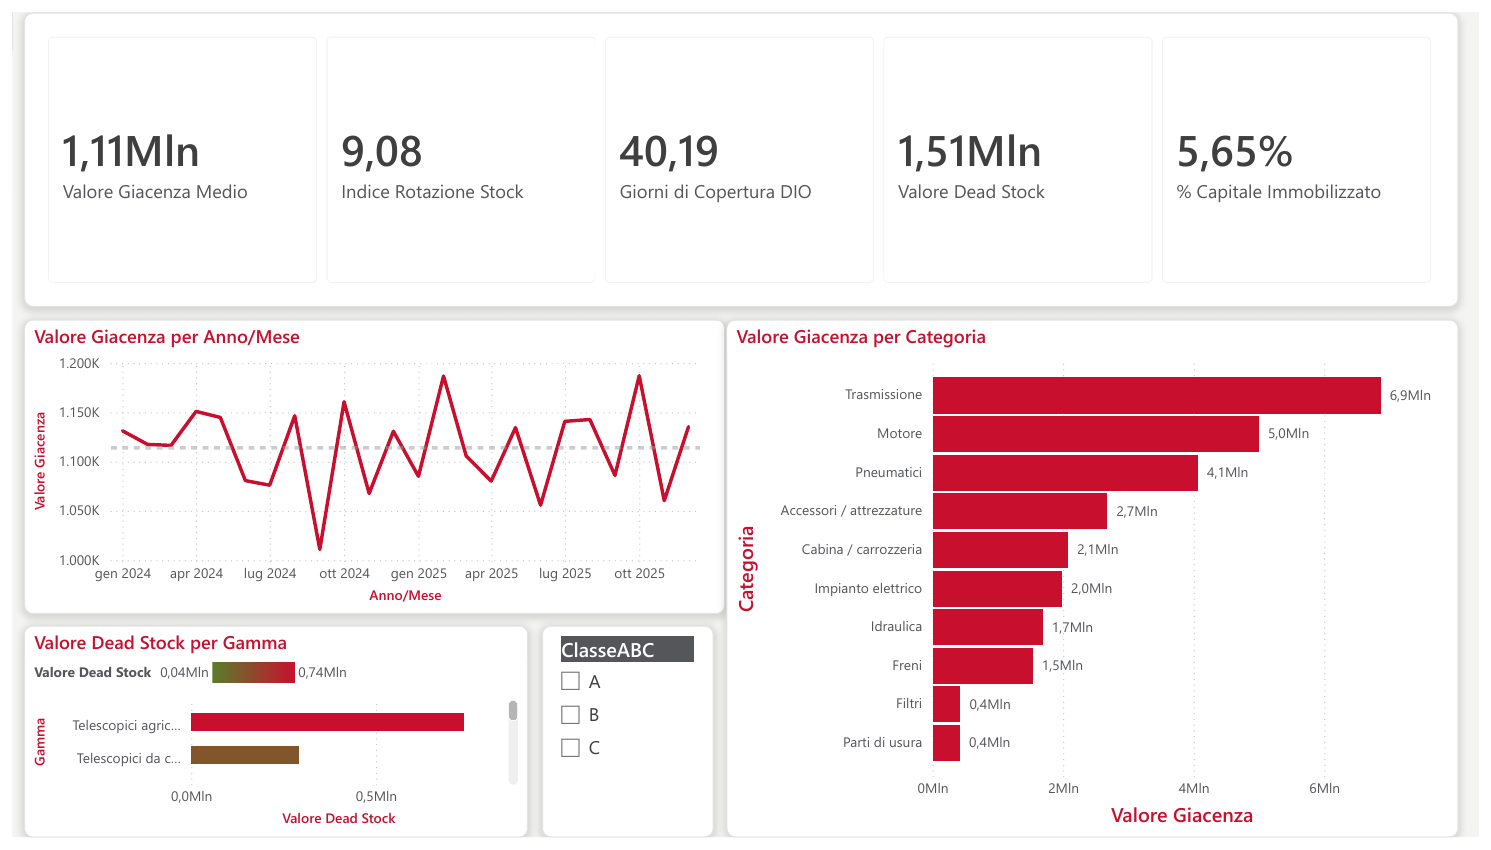

What the dashboard file says about the page in this screenshot:
{"tool":"powerbi","page":{"name":"3 - Inventario","canvas":[1280,720],"ordinal":2},"visuals":[{"type":"cardVisual","fields":{"Data":["fact_inventory_snapshot.Valore Giacenza Medio","fact_inventory_snapshot.Indice Rotazione Stock","fact_inventory_snapshot.Giorni di Copertura DIO","fact_inventory_snapshot.Valore Dead Stock","fact_inventory_snapshot.% Capitale Immobilizzato"]},"box":[9.7,0,1251.8,256.8],"z":0},{"type":"lineChart","fields":{"Category":["dim_date.AnnoMese"],"Y":["fact_inventory_snapshot.Valore Giacenza"]},"box":[9.7,268.4,612.8,256.8],"z":1000},{"type":"clusteredBarChart","fields":{"Category":["dim_product_family.Gamma"],"Y":["fact_inventory_snapshot.Valore Dead Stock"]},"box":[10,535,440,185],"z":2000},{"type":"clusteredBarChart","fields":{"Category":["dim_part_category.Categoria"],"Y":["fact_inventory_snapshot.Valore Giacenza"]},"box":[623,268,639,452],"z":3000},{"type":"slicer","fields":{"Values":["dim_part.ClasseABC"]},"box":[462,535,150,185],"z":4000}]}

Visuals, with their boxes in screenshot pixels (x1, y1, x2, y2), scaled from the page's 1280x720 canvas onto the 1491x850 screenshot:
cardVisual - fact_inventory_snapshot.Valore Giacenza Medio x fact_inventory_snapshot.Indice Rotazione Stock: <box>11,0,1469,303</box>
lineChart - dim_date.AnnoMese x fact_inventory_snapshot.Valore Giacenza: <box>11,317,725,620</box>
clusteredBarChart - dim_product_family.Gamma x fact_inventory_snapshot.Valore Dead Stock: <box>12,632,524,849</box>
clusteredBarChart - dim_part_category.Categoria x fact_inventory_snapshot.Valore Giacenza: <box>726,316,1470,849</box>
slicer - dim_part.ClasseABC: <box>538,632,713,849</box>
